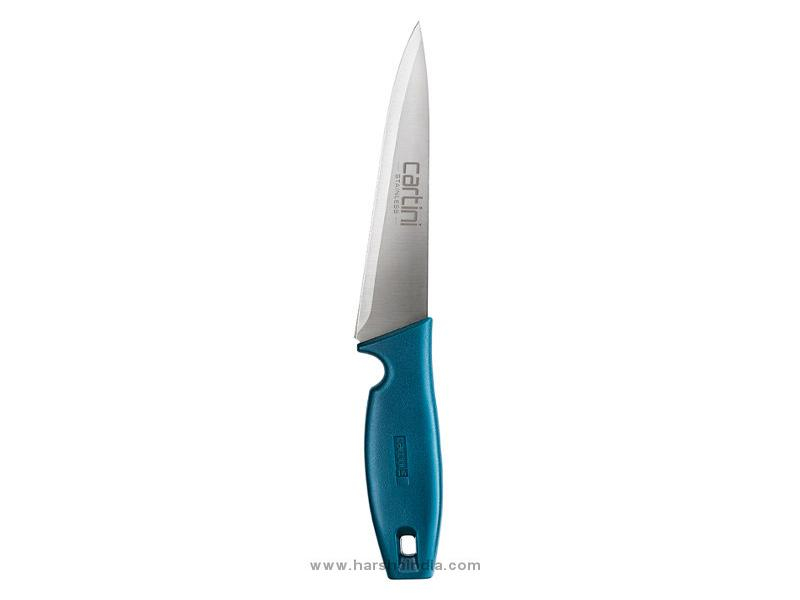KNIFE: (347, 14, 458, 584)
